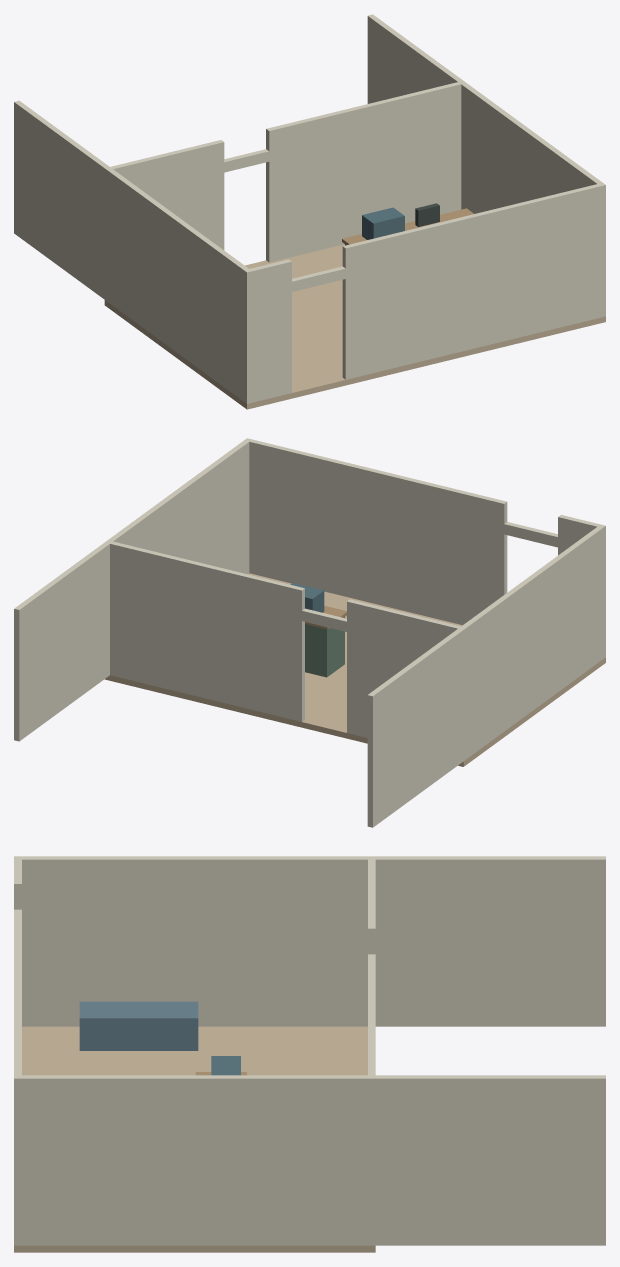
3 views of the same model, one above another, from view 1: azimuth 30°, elevation 25°; view 2: azimuth 150°, elevation 25°; view 3: azimuth 270°, elevation 25° (orthographic). The views are drawn at different scales.
Visible parts, largest first — view 1: CS2_4, CW_1, SUPN2_9, CE_2, GROUND_0, SUPN_8, CS1_3, CARRIER_16, CENTRY-lintel_7, SUPD-j2_11, SUPD-lintel_12, CTRT_14; view 2: CS2_4, CW_1, SUPN2_9, CE_2, SUPN_8, GROUND_0, CTR_13, CS1_3, CENTRY-lintel_7, SUPD-lintel_12; view 3: CE_2, CW_1, GROUND_0, BENCH_17, CS2_4, SUPN2_9, SUPN_8, CARRIER_16.
Part boxes in pixels (bbox=[...]): CS2_4: bbox=[342, 183, 605, 379]; CW_1: bbox=[14, 100, 252, 403]; SUPN2_9: bbox=[266, 81, 465, 262]; CE_2: bbox=[367, 14, 605, 317]; GROUND_0: bbox=[104, 244, 605, 409]; SUPN_8: bbox=[104, 140, 224, 301]; CS1_3: bbox=[244, 259, 291, 403]; CARRIER_16: bbox=[362, 207, 404, 239]; CENTRY-lintel_7: bbox=[292, 266, 345, 291]; SUPD-j2_11: bbox=[266, 154, 272, 261]; SUPD-lintel_12: bbox=[224, 149, 269, 172]; CTRT_14: bbox=[342, 208, 473, 245]; CS2_4: bbox=[245, 438, 507, 625]; CW_1: bbox=[367, 525, 605, 827]; SUPN2_9: bbox=[106, 540, 304, 721]; CE_2: bbox=[14, 438, 251, 741]; SUPN_8: bbox=[347, 599, 466, 760]; GROUND_0: bbox=[104, 573, 605, 766]; CTR_13: bbox=[305, 617, 344, 677]; CS1_3: bbox=[558, 515, 605, 658]; CENTRY-lintel_7: bbox=[504, 522, 557, 547]; SUPD-lintel_12: bbox=[302, 608, 346, 631]; CE_2: bbox=[14, 1075, 605, 1245]; CW_1: bbox=[14, 856, 605, 1026]; GROUND_0: bbox=[14, 1026, 375, 1252]; BENCH_17: bbox=[79, 1001, 198, 1050]; CS2_4: bbox=[14, 917, 21, 1245]; SUPN2_9: bbox=[368, 956, 375, 1245]; SUPN_8: bbox=[368, 856, 375, 954]; CARRIER_16: bbox=[211, 1056, 240, 1075].
Size of the model in its own units: 8 by 2.92 by 9.
